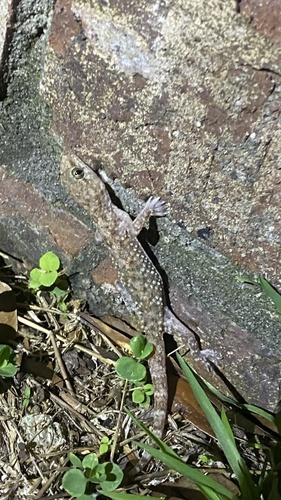lizard: (59, 153, 205, 441)
